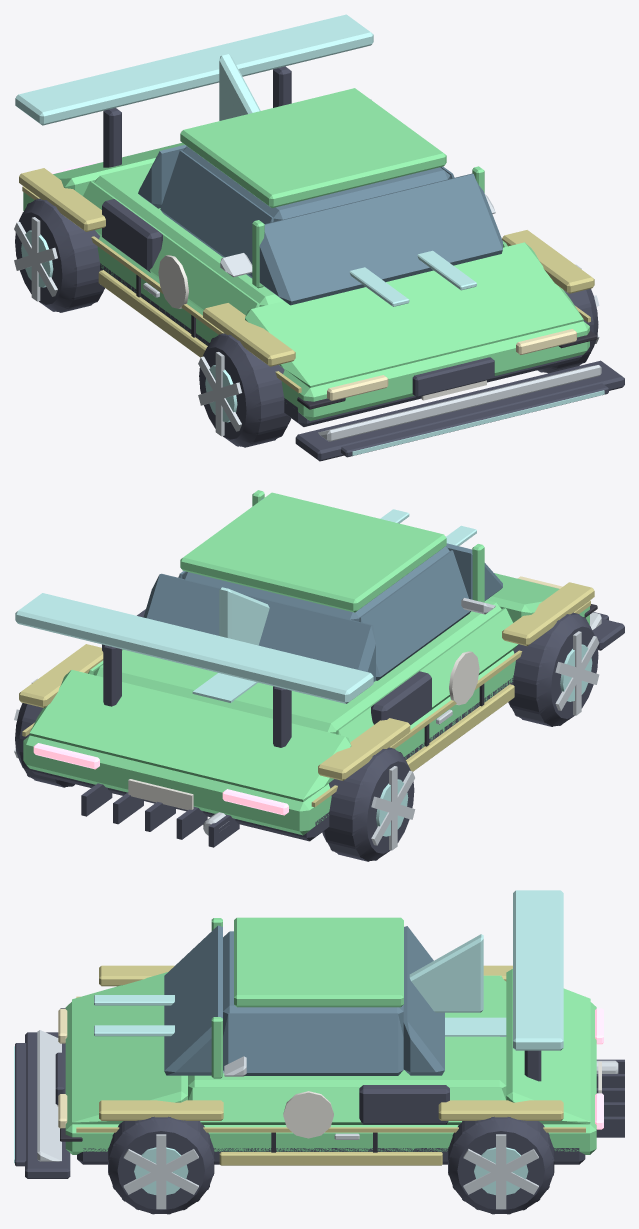
File: velocity_viper.fbx
3 views of the same model, one above another, from view 1: azimuth 30°, elevation 25°; view 2: azimuth 150°, elevation 25°; view 3: azimuth 270°, elevation 25° (orthographic). The views are drawn at different scales.
Visible parts, largest first — view 1: Body, Glass, Trim, Accent3, Accent, Wheel_FR, Wheel_RR, Accent4, Metal, Light, Light2, Accent2 (+3 smaller); view 2: Body, Glass, Accent3, Accent, Trim, Wheel_RR, Wheel_FR, Metal, Accent2, Light, Light3, Metal2 (+2 smaller); view 3: Body, Glass, Accent3, Trim, Accent, Wheel_FL, Wheel_RL, Metal, Light, Accent4, Accent2, Metal2 (+2 smaller).
Boxes of the visible parts, x1,y1,x2,y2 form: Body: [23, 88, 589, 421]; Glass: [138, 99, 502, 305]; Trim: [100, 66, 624, 461]; Accent3: [15, 14, 373, 125]; Accent: [19, 168, 594, 393]; Wheel_FR: [199, 333, 291, 447]; Wheel_RR: [15, 198, 104, 312]; Accent4: [220, 194, 601, 441]; Metal: [14, 217, 599, 436]; Light: [349, 250, 604, 455]; Light2: [327, 329, 576, 400]; Accent2: [158, 255, 486, 400]; Body: [23, 490, 589, 835]; Glass: [143, 498, 502, 681]; Accent3: [15, 587, 373, 703]; Accent: [19, 582, 594, 807]; Trim: [30, 609, 624, 847]; Wheel_RR: [322, 747, 414, 861]; Wheel_FR: [508, 612, 598, 726]; Metal: [14, 631, 599, 850]; Accent2: [128, 651, 479, 809]; Light: [192, 509, 476, 702]; Light3: [33, 743, 288, 815]; Metal2: [376, 644, 592, 836]; Body: [65, 917, 596, 1154]; Glass: [164, 925, 444, 1075]; Accent3: [223, 890, 563, 1073]; Trim: [15, 1032, 624, 1178]; Accent: [76, 965, 585, 1165]; Wheel_FL: [108, 1116, 214, 1214]; Wheel_RL: [448, 1116, 554, 1214]; Metal: [123, 1060, 618, 1209]; Light: [14, 995, 506, 1163]; Accent4: [37, 1030, 246, 1161]; Accent2: [57, 1061, 601, 1138]; Metal2: [134, 1147, 528, 1195].
Bounding box in the file's own units: 3.4 × 1.99 × 5.41.
